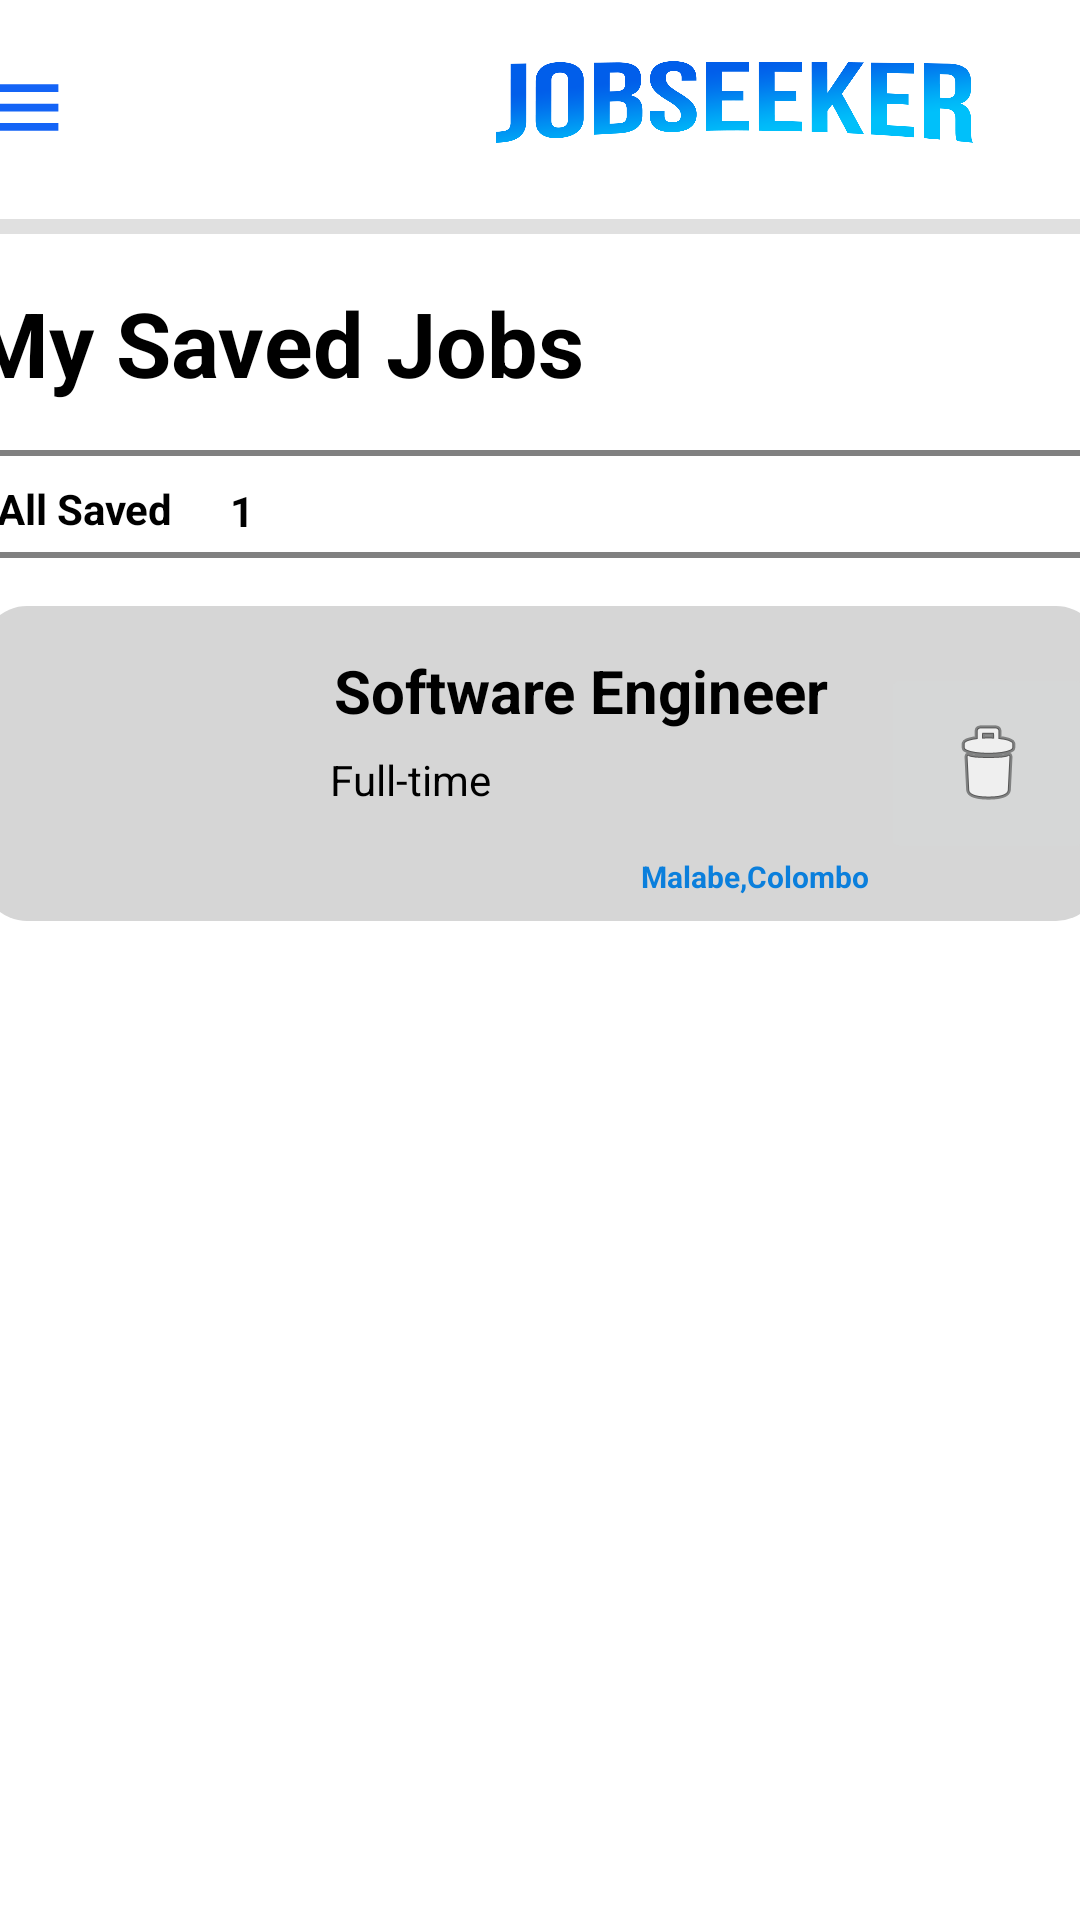

Where icons sit on this 1080x1920 app screen, as (x1, y1, x2, y2):
delete: (961, 725, 1016, 800)
